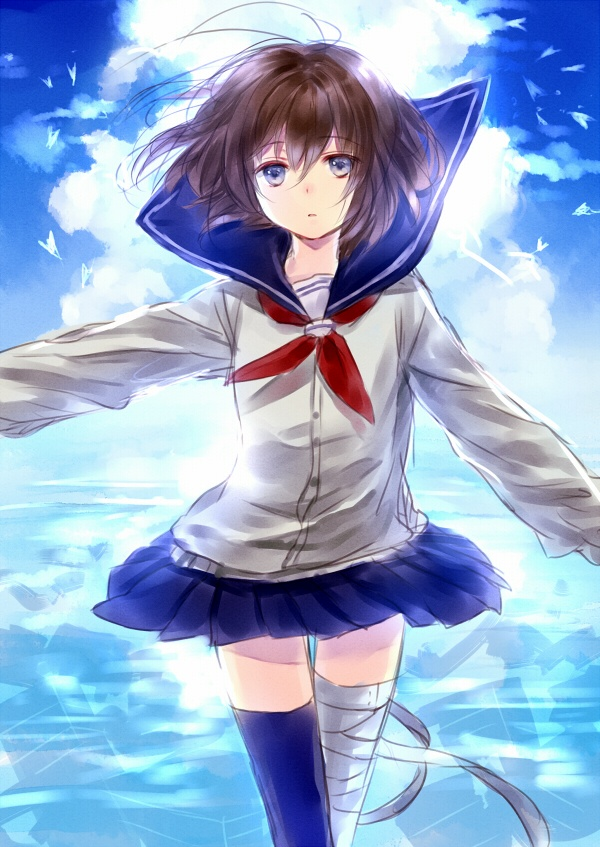纸片人正脸: (170, 33, 435, 251)
